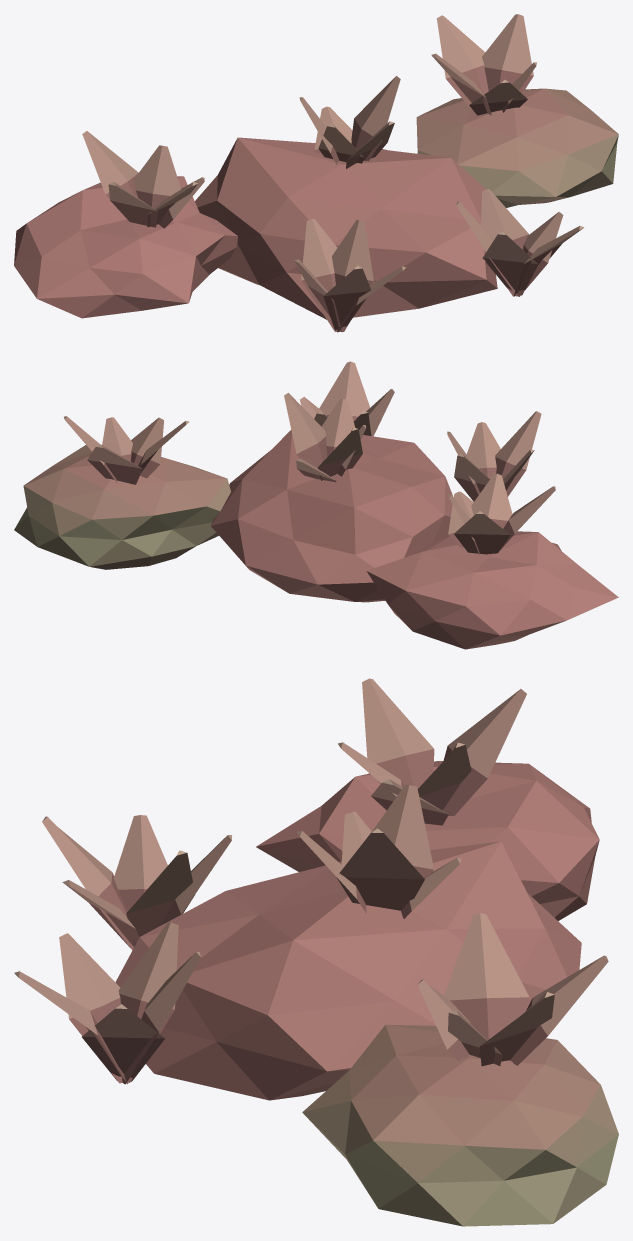
Rendered from HeathTufts_leaf.glb.
The picture shows the model from 3 angles, top to bottom: view 1: azimuth 30°, elevation 25°; view 2: azimuth 150°, elevation 25°; view 3: azimuth 270°, elevation 25°; orthographic projection. The views are drawn at different scales.
Visible parts, largest first — view 1: HeathTufts_leaf; view 2: HeathTufts_leaf; view 3: HeathTufts_leaf.
Part boxes in pixels (left/top/right/bottom): HeathTufts_leaf: left=14, top=14, right=618, bottom=332; HeathTufts_leaf: left=14, top=361, right=618, bottom=649; HeathTufts_leaf: left=14, top=678, right=618, bottom=1226.
Size of the model in its own units: 4.66 by 1.23 by 2.81.
